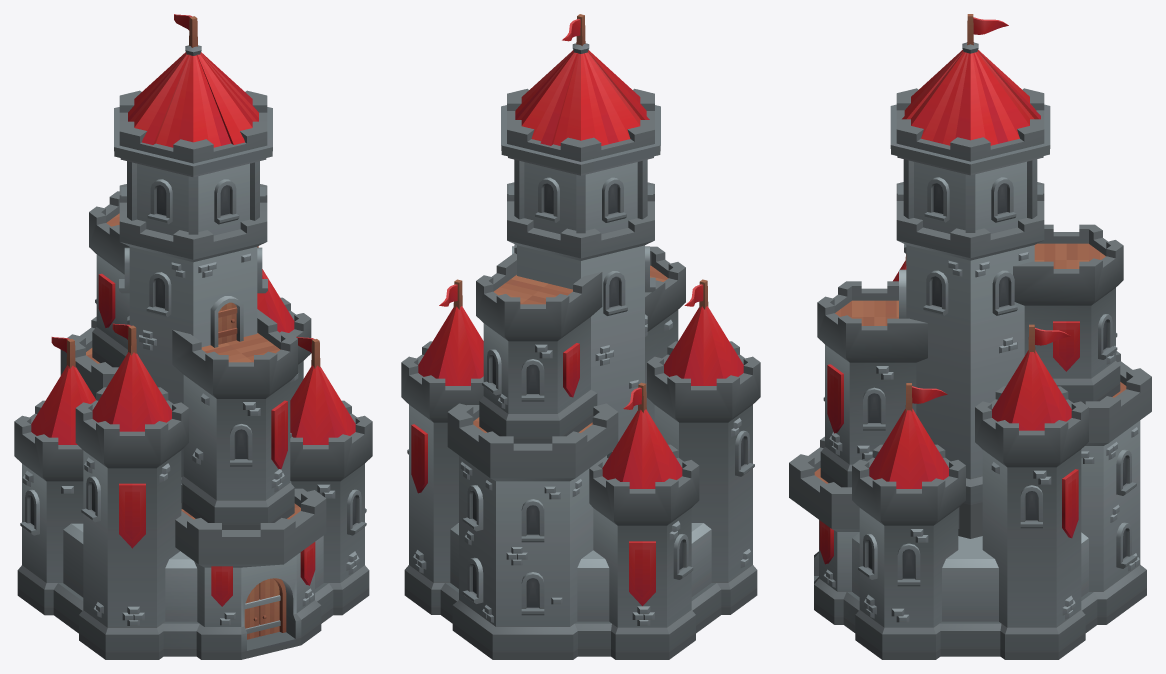
The model's file is castle.glb.
3 views of the same model, side by side, from view 1: azimuth 30°, elevation 25°; view 2: azimuth 150°, elevation 25°; view 3: azimuth 270°, elevation 25° (orthographic).
Parts seen in each view (by area): view 1: building_castle_red; view 2: building_castle_red; view 3: building_castle_red.
Part boxes in pixels (box(x1,y1,x2,y2)): building_castle_red: box(14, 14, 372, 659); building_castle_red: box(401, 14, 760, 659); building_castle_red: box(789, 14, 1151, 659).
Bounding box in the file's own units: 1.98 × 3.98 × 2.26.
Materials: 1 (1 with a texture image).
